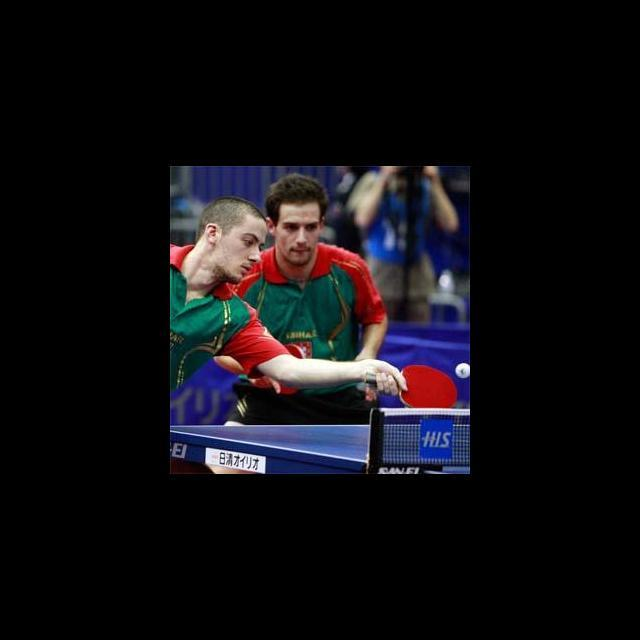ping-pong-ball: (454, 362, 470, 380)
